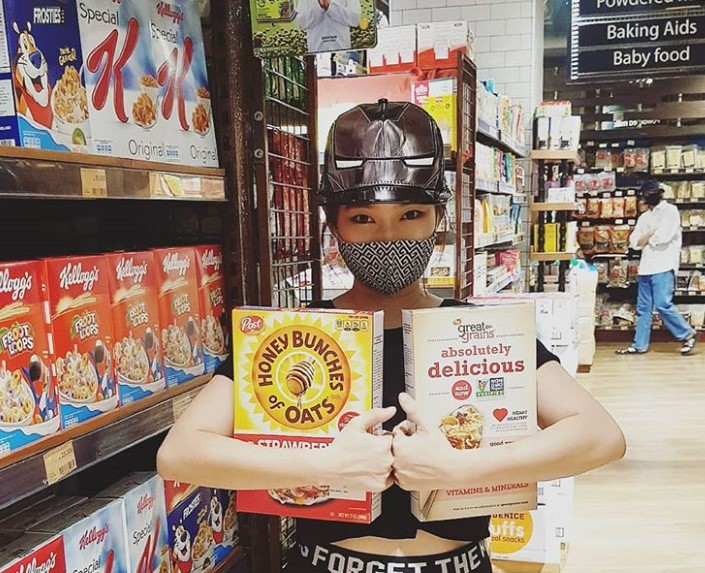face_with_mask: (319, 100, 448, 296)
